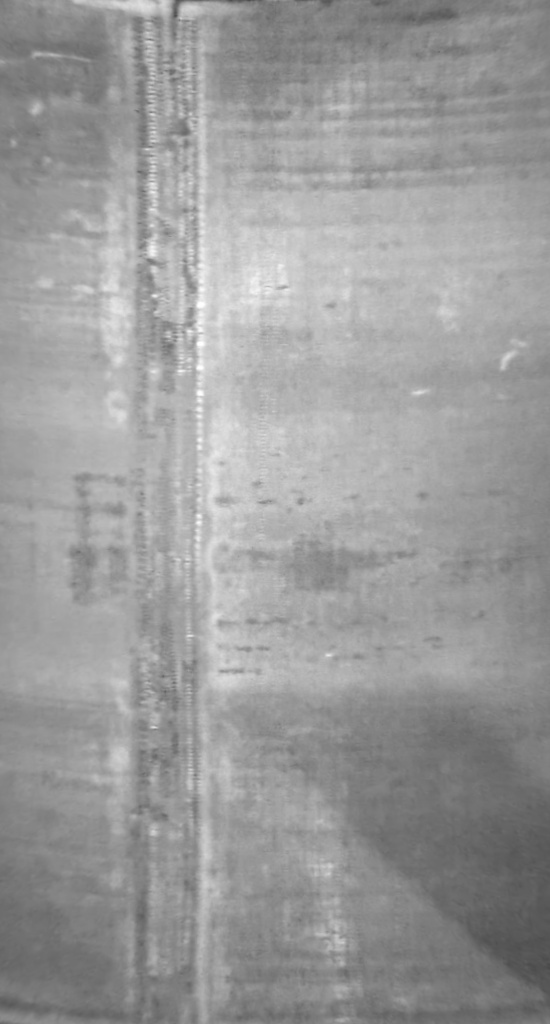splice: (117, 1, 214, 1022)
